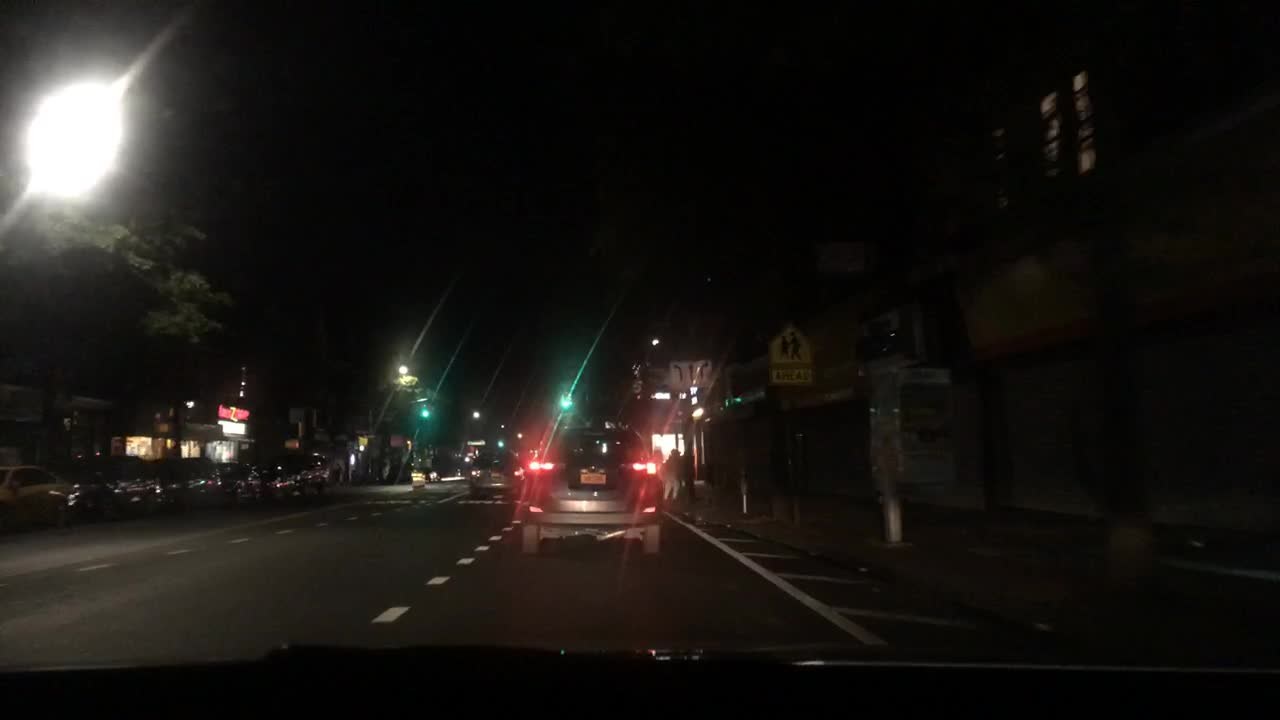car: (522, 426, 663, 556), (76, 451, 162, 519), (0, 461, 77, 531), (160, 454, 223, 509), (466, 450, 524, 496), (222, 462, 262, 506), (262, 461, 306, 501), (295, 454, 331, 492)
person: (660, 446, 683, 501)
traffic light: (420, 403, 427, 419)
traffic sign: (768, 323, 811, 386), (671, 361, 712, 388)
